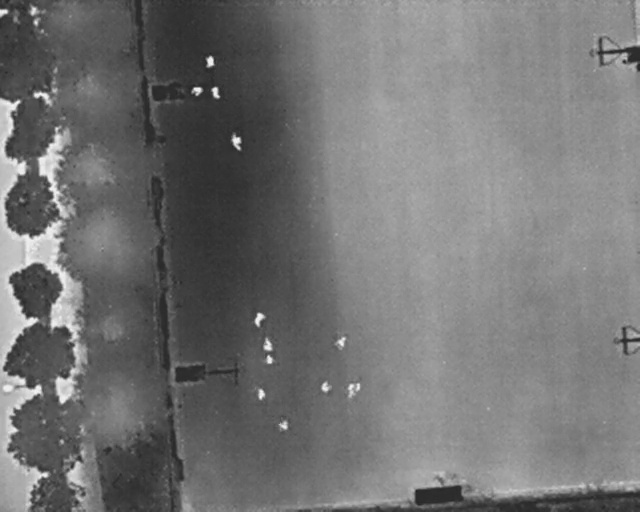Person: (229, 131, 245, 153), (331, 333, 348, 353), (252, 311, 268, 329), (345, 382, 361, 399), (319, 380, 333, 394), (277, 418, 290, 432), (262, 337, 274, 352), (209, 85, 221, 99), (256, 387, 266, 403), (205, 55, 216, 69), (191, 85, 203, 97), (265, 354, 274, 365)
